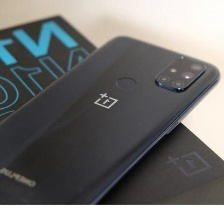book: (0, 9, 224, 224)
phone: (0, 29, 221, 224)
